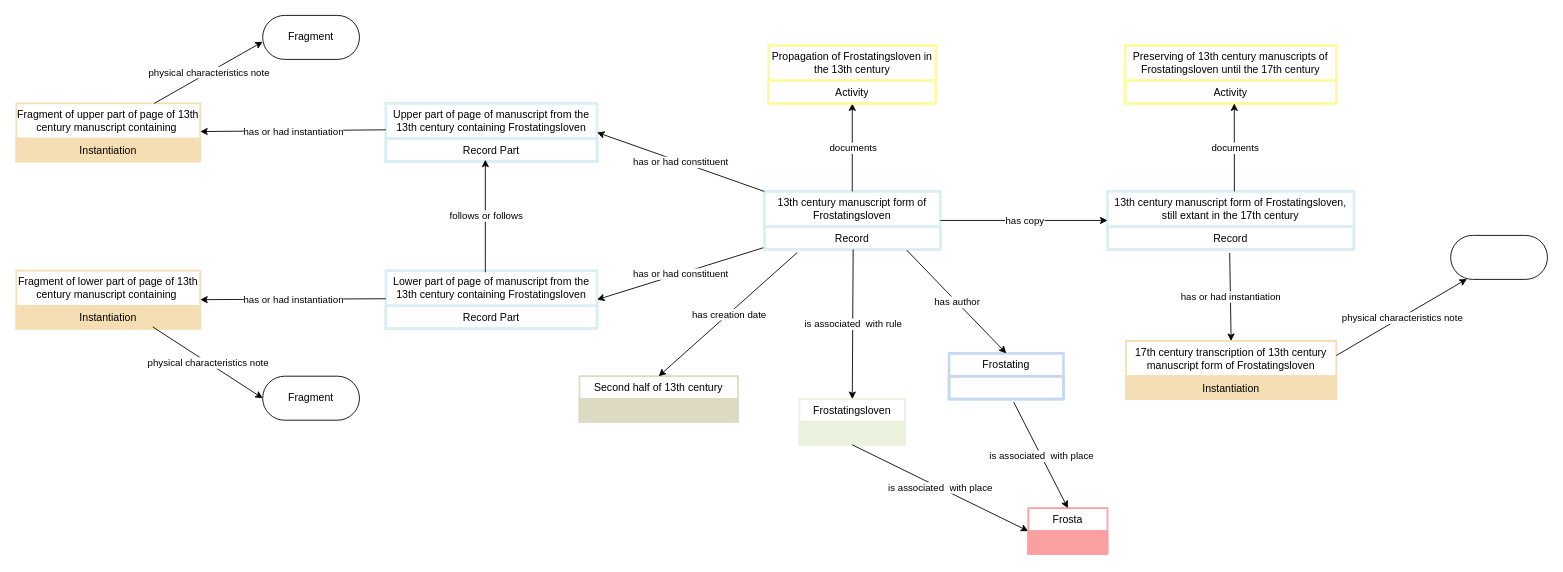
This 1563x572 diagram has some shape labels left out. Each missing label, with the centre of its shape:
Complete: the point at 1498,257
Corporate Body: the point at 1005,387
Date: the point at 658,410
Place: the point at 1067,542
Rule: the point at 852,433
